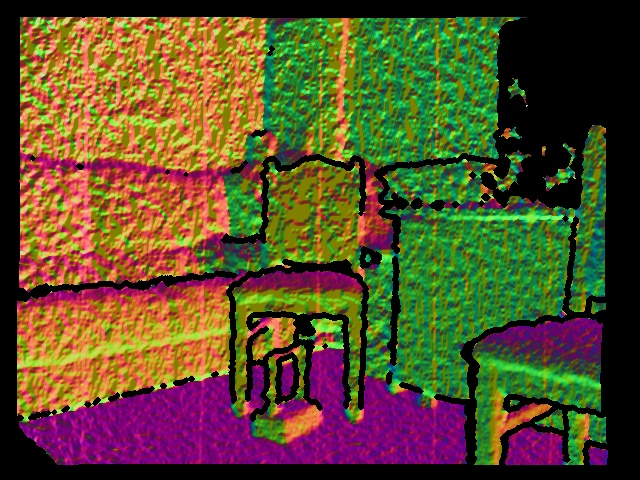station: (253, 344, 325, 441)
